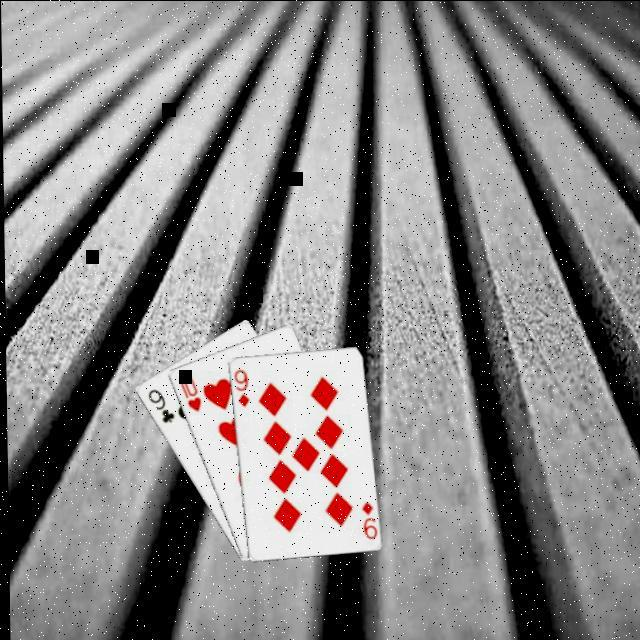10H: (171, 368, 201, 412)
9C: (142, 384, 174, 424)
9D: (354, 496, 376, 540), (228, 364, 249, 408)
